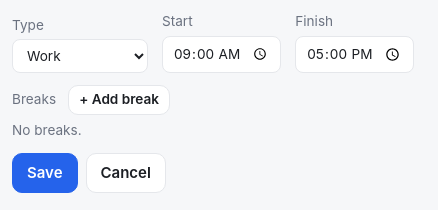
Test: DayEditor › explains time in lieu differently
Step 1. Select "Time in lieu" in the dropdown labelled "Type" → (80, 56), box [12, 39, 148, 73]
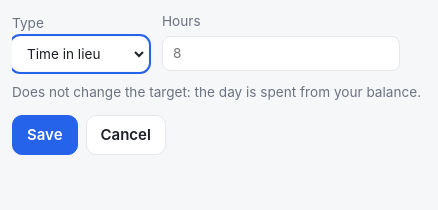
Expected: the text "Does not change the target: the day is spent from your balance." is shown, [12, 84, 421, 100]
